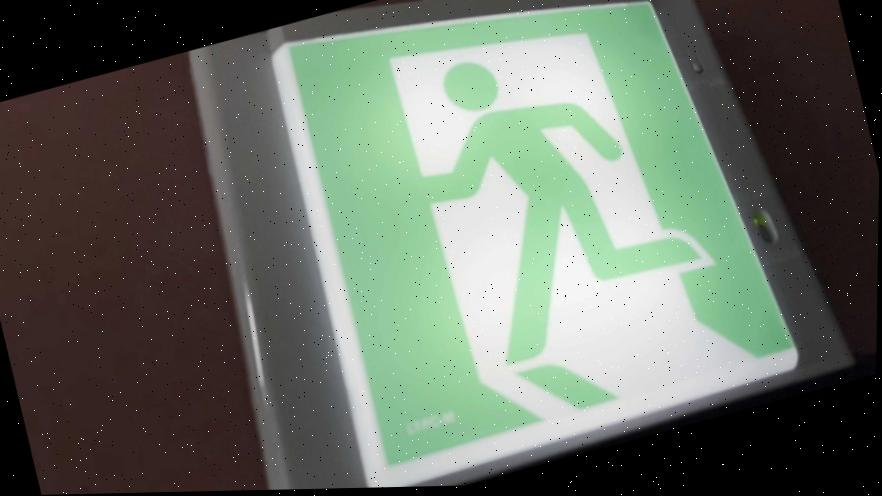emergency_exit: (4, 1, 871, 492), (263, 1, 812, 485)
